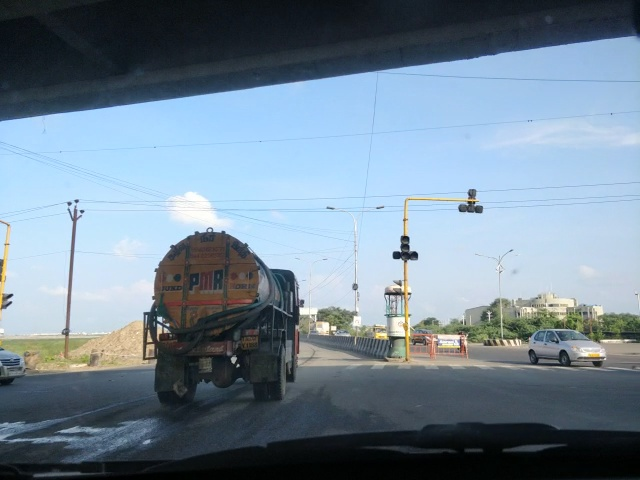car: (527, 324, 609, 366), (0, 345, 28, 382), (416, 327, 440, 345), (331, 326, 351, 337)
truck: (143, 220, 308, 409), (366, 326, 386, 338)
